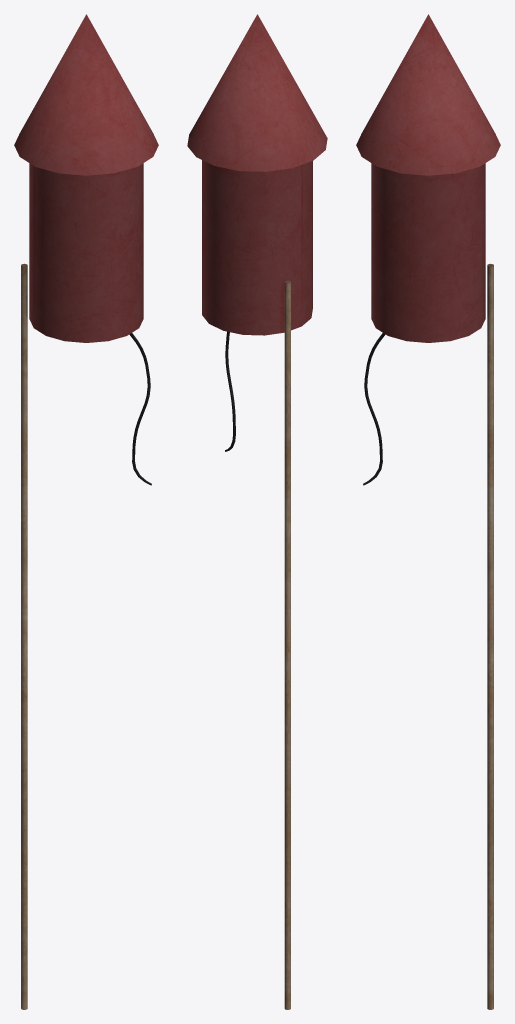
Rendered from rocket.fbx.
3 renders of one model, left to right at view 1: azimuth 90°, elevation 25°; view 2: azimuth 210°, elevation 25°; view 3: azimuth 270°, elevation 25°, orthographic. The views are drawn at different scales.
Visible parts, largest first — view 1: rckt; view 2: rckt; view 3: rckt.
Part boxes in pixels (left/top/right/bottom): rckt: left=14, top=14, right=158, bottom=1009; rckt: left=187, top=14, right=327, bottom=1009; rckt: left=356, top=14, right=500, bottom=1009.
Size of the model in its own units: 65.86 by 499 by 65.86.
